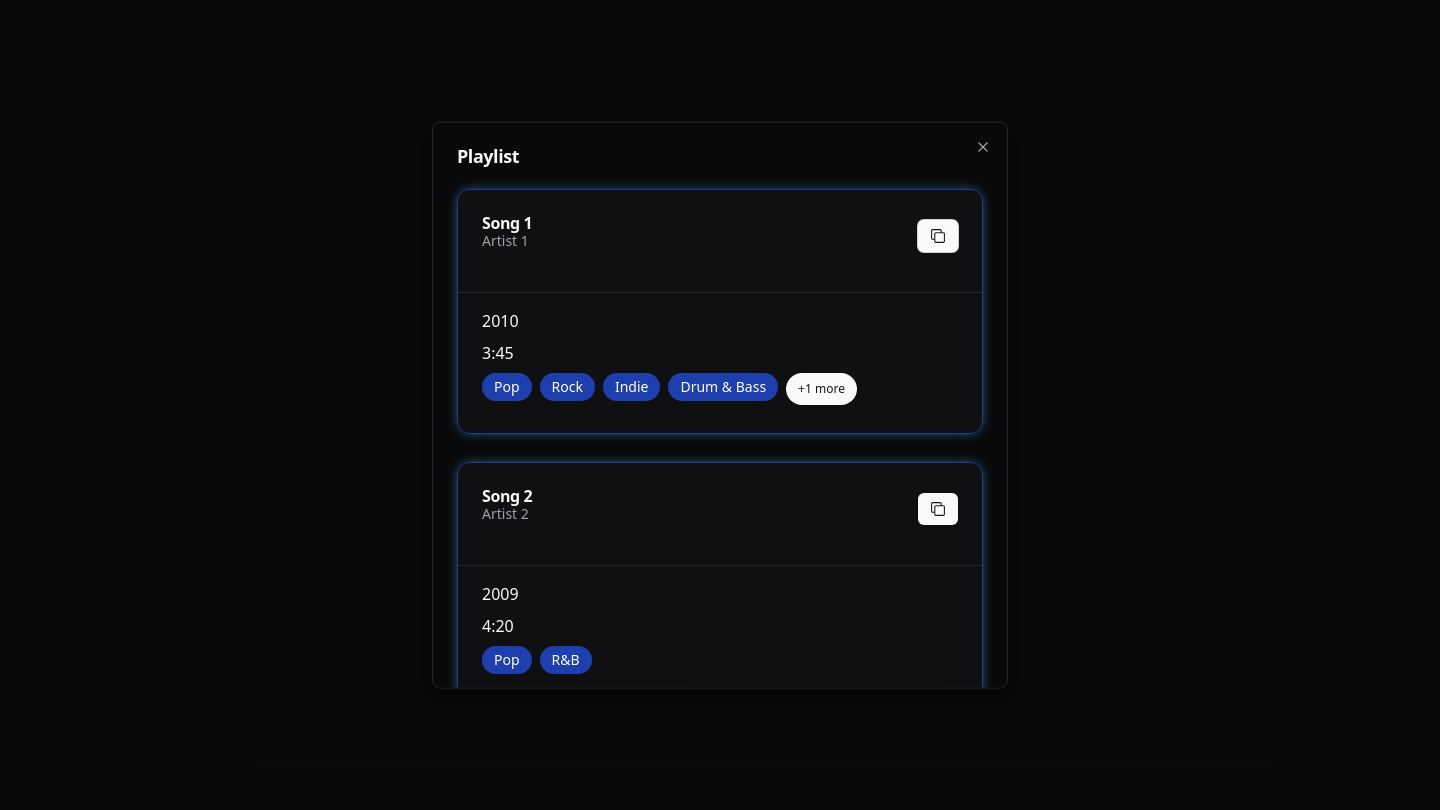
it: Modal › shows all genres in that card when clicking +1 more button
Check: the text "Hip Hop" is not shown
click '+1 more' button
Click the button "+1 more": (822, 388) x1=786 y1=372 x2=857 y2=404
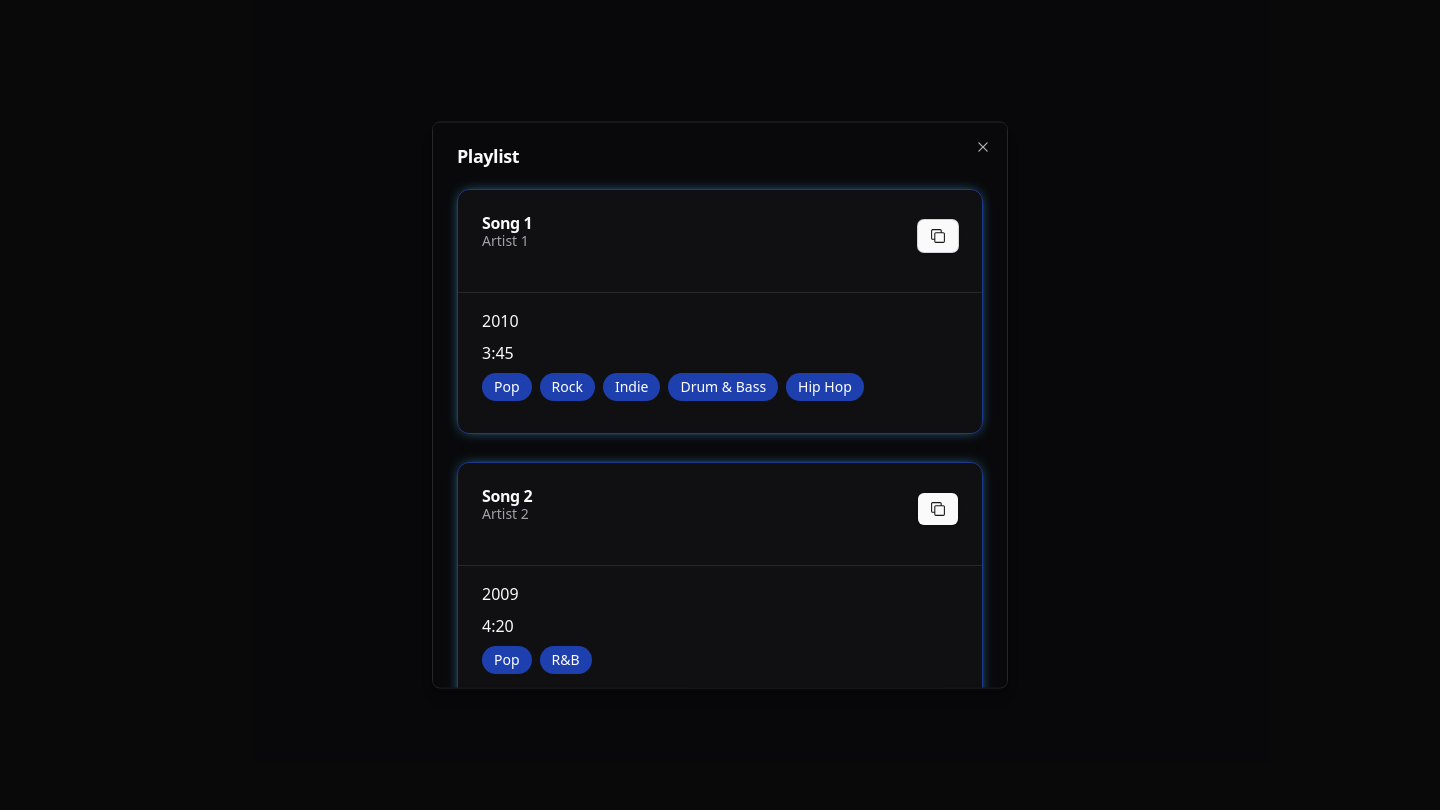
Check: the text "Hip Hop" is shown, box x1=786 y1=372 x2=864 y2=400
Check: the button "+1 more" is gone
